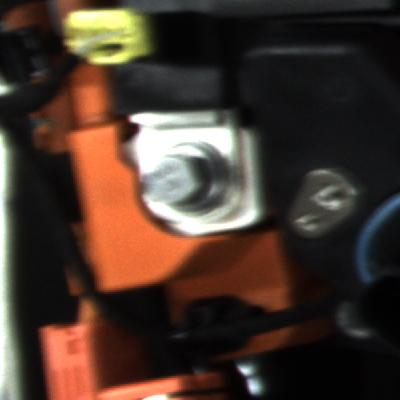nut_b: (137, 139, 231, 219)
